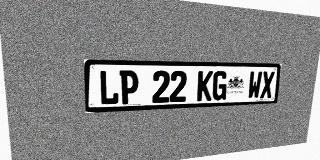2: (152, 70, 170, 103), (170, 71, 187, 102)
G: (212, 71, 228, 100)
K: (197, 71, 213, 101)
L: (99, 70, 119, 105)
P: (120, 70, 139, 104)
W: (247, 71, 262, 99)
X: (260, 71, 275, 98)
